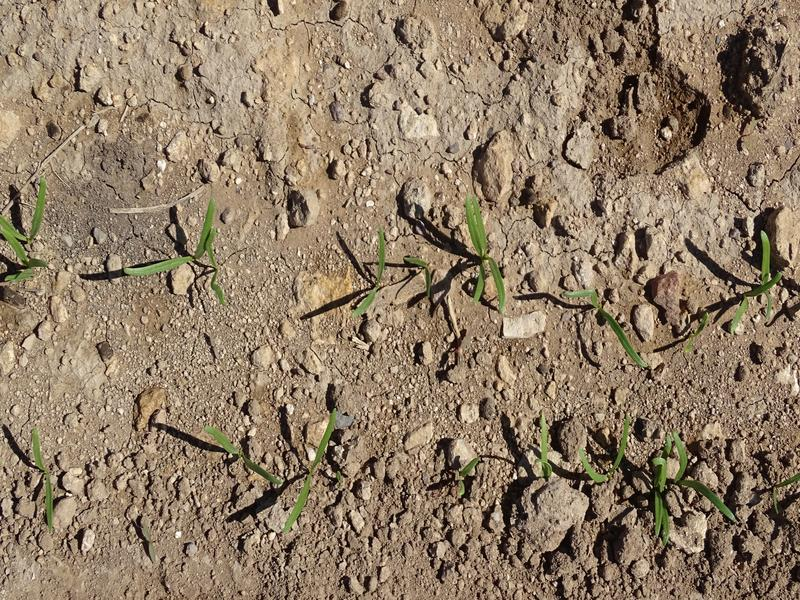Espinaca: (124, 197, 233, 308), (647, 435, 737, 539), (562, 284, 654, 372), (283, 408, 343, 534), (459, 192, 511, 313), (1, 175, 53, 285), (199, 425, 282, 488), (576, 418, 631, 484), (354, 223, 390, 317), (30, 425, 61, 534), (750, 229, 783, 324), (404, 251, 436, 304), (536, 413, 556, 485)
